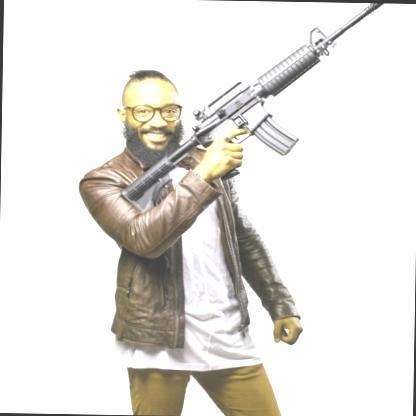rifle: (122, 0, 384, 230)
